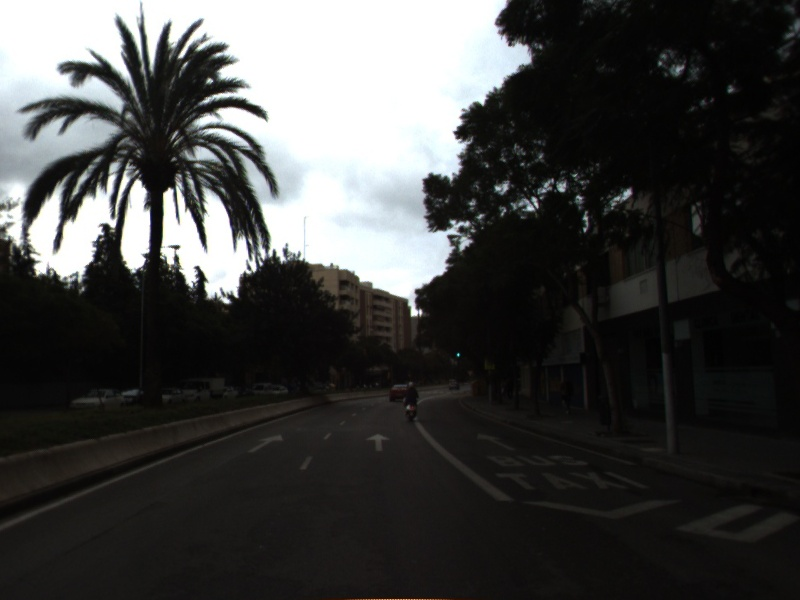STRAIGHT: (245, 432, 285, 455), (475, 431, 516, 453), (364, 431, 393, 453)
